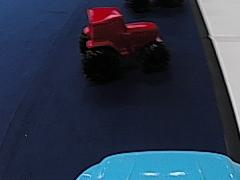Tracktor: (77, 3, 169, 76)
